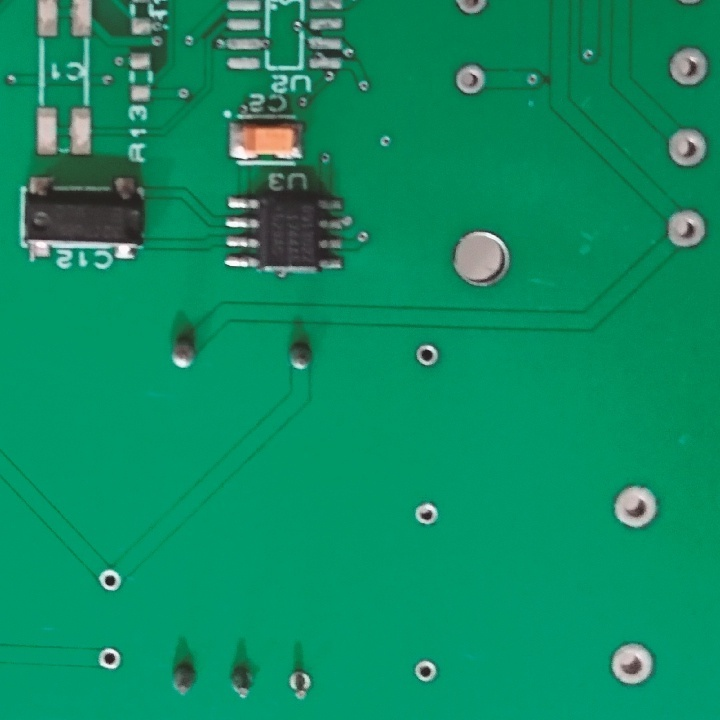F: (610, 481, 661, 535), (604, 640, 656, 688), (664, 45, 713, 90), (664, 206, 709, 252), (667, 126, 710, 174), (95, 563, 133, 601), (454, 62, 490, 99), (282, 663, 315, 703), (96, 643, 132, 678), (413, 339, 445, 372), (412, 499, 442, 524), (413, 657, 439, 685)
